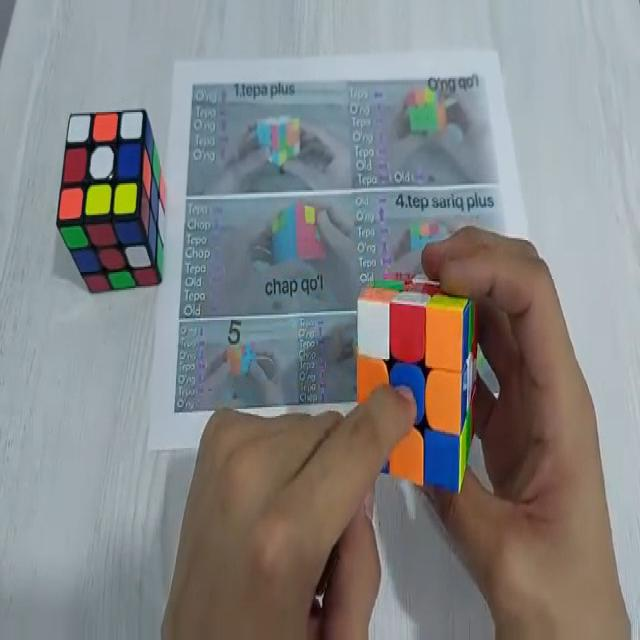Rub: (355, 268, 481, 495), (58, 110, 166, 294)
